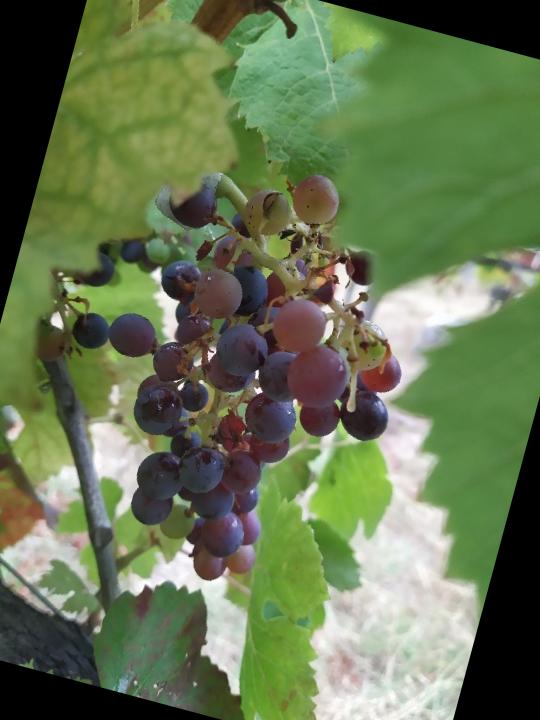grape: (15, 118, 454, 623)
